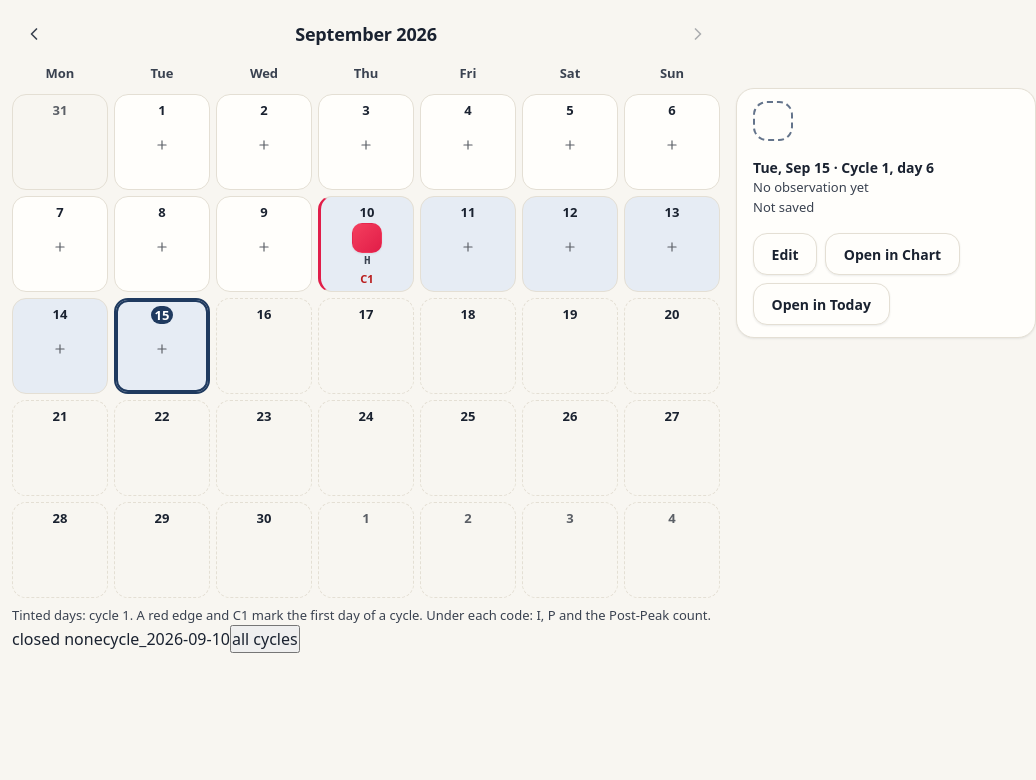
Scenario: CalendarGrid on a desktop › shows only the date of a day before the first cycle, and a blank day for an empty date
Click the button "5" at (570,142), box [522,94,618,190]
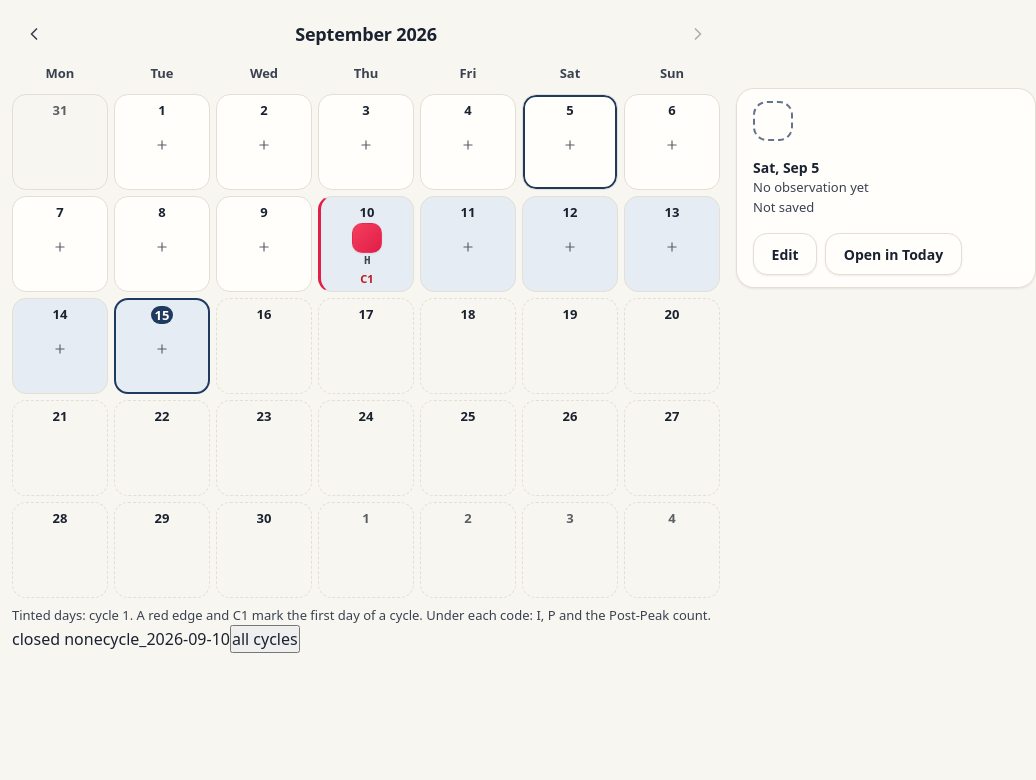
Check: the element named "Selected day" does not show "Cycle", box [736,88,1035,288]
Check: the element named "Selected day" shows "Sat, Sep 5", box [753,158,819,177]
Click the button "Open in Today" at (894,254), box [825,233,962,275]
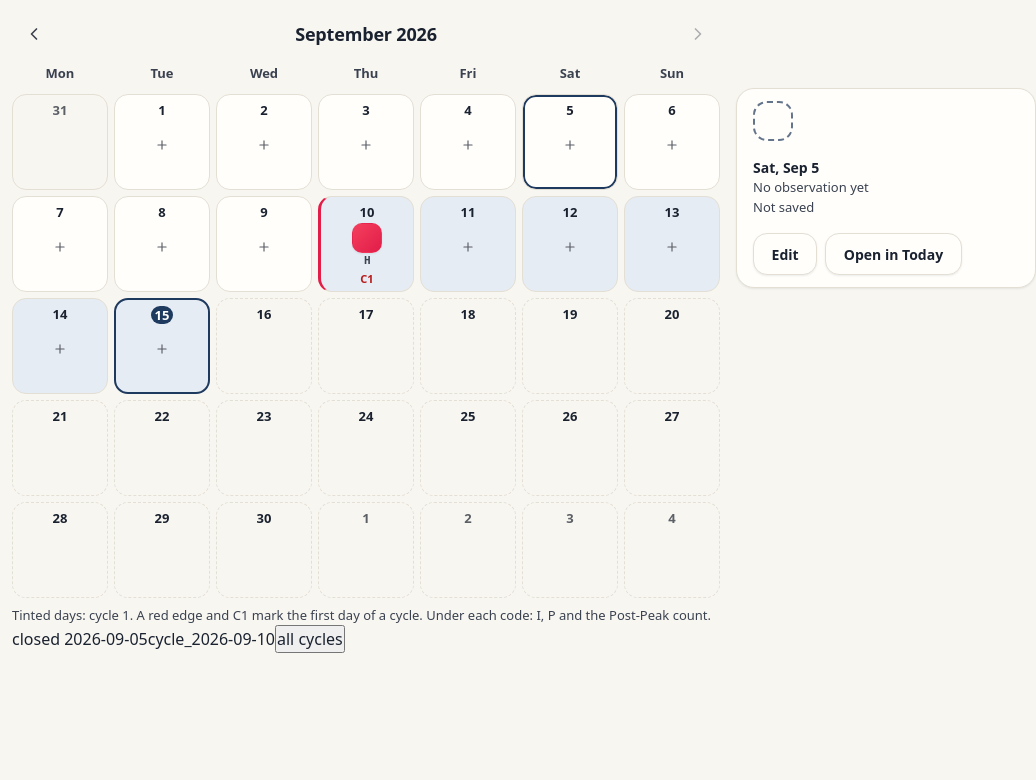
Check: the button "Open in Chart" is not shown
Check: the text with test id "drawer" reads "closed 2026-09-05", box [12,628,148,650]
Click the button "10 H C1" at (366,244), box [318,196,414,292]
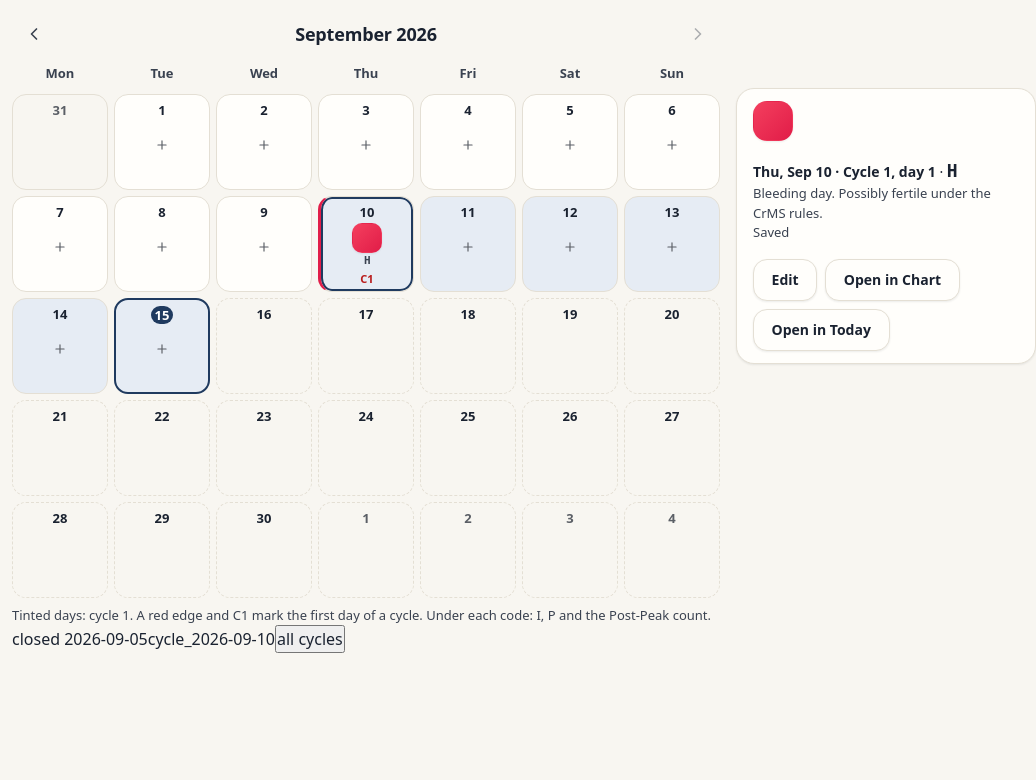
Check: the button "Open in Chart" is shown, box [825,258,960,301]
